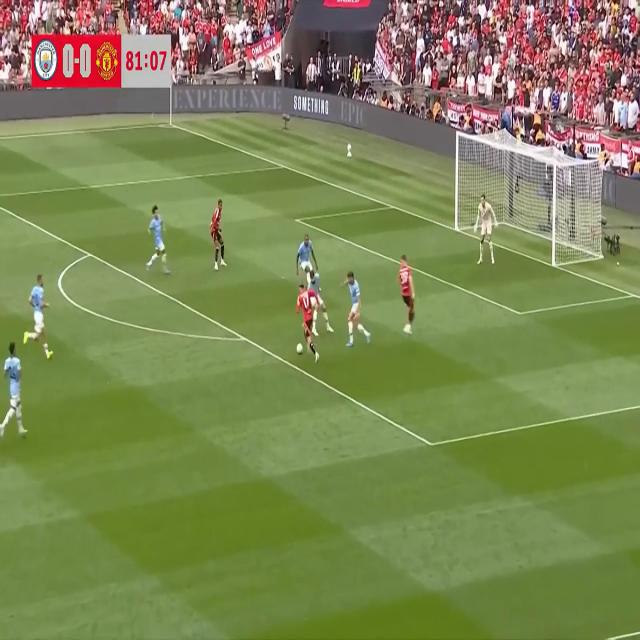ball: (294, 336, 304, 364)
goal_keeper: (472, 191, 498, 269)
players: (20, 267, 60, 363), (292, 274, 322, 368), (2, 339, 28, 443), (142, 198, 173, 282), (342, 263, 372, 349), (204, 188, 230, 275), (394, 253, 418, 342), (306, 267, 334, 335), (296, 232, 319, 294)
